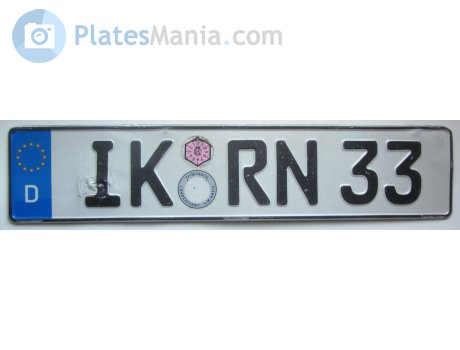License Plates: (63, 132, 443, 206)
